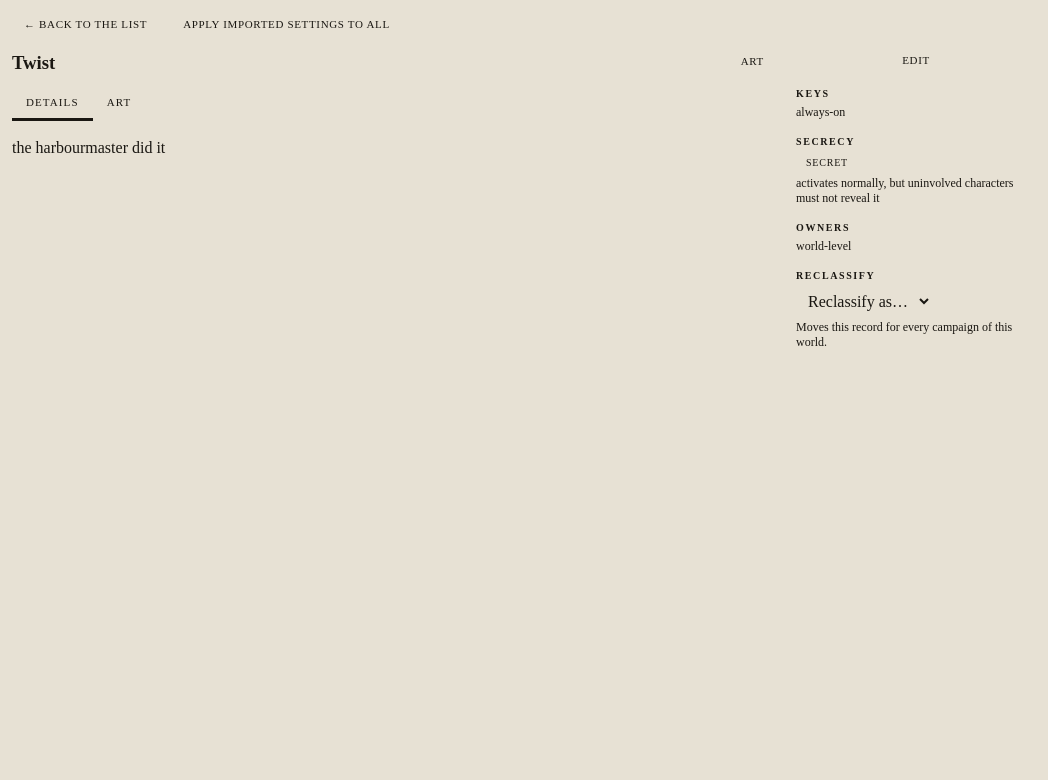
the detail sidebar badges a secret entry and the form opens on its level
Expected: the heading "Secrecy" is shown, [796,136,855,147]
Expected: the text "Secret" is shown, [806,157,848,168]
# Edit opens the form already on the stored level, so a save can't downgrade it
Click the button "Edit".
click(916, 60)  # box [796,48,1036,72]
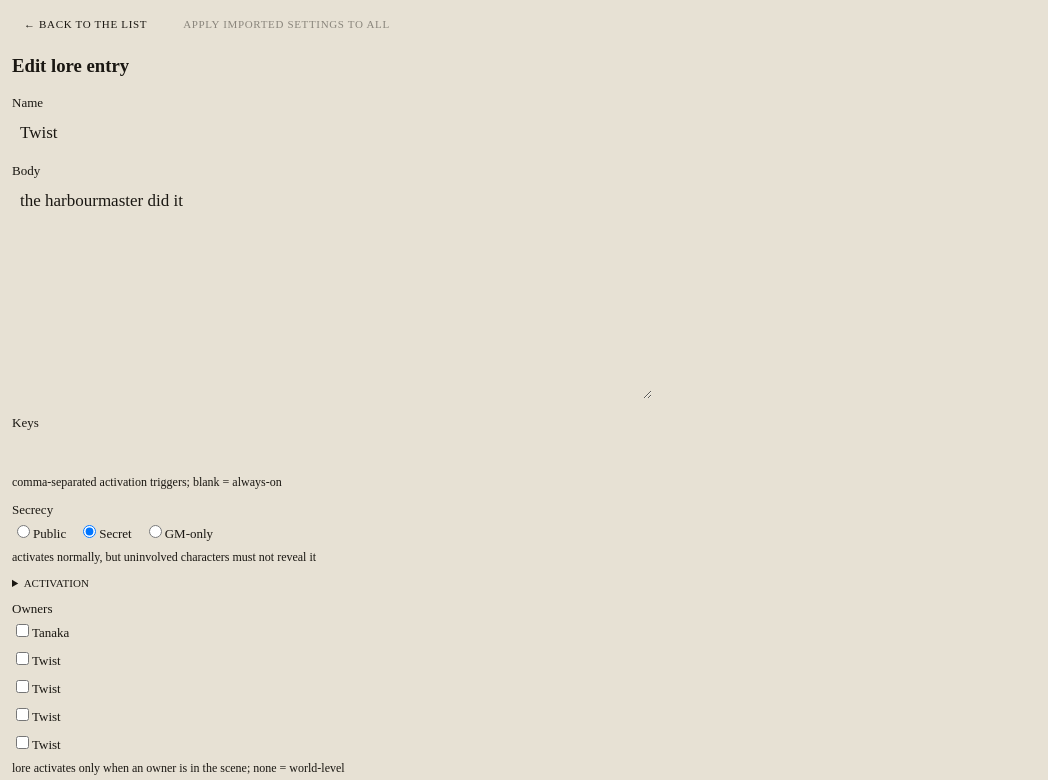
Now the radio button labelled "Secret" is checked, box [83,525,96,538]
